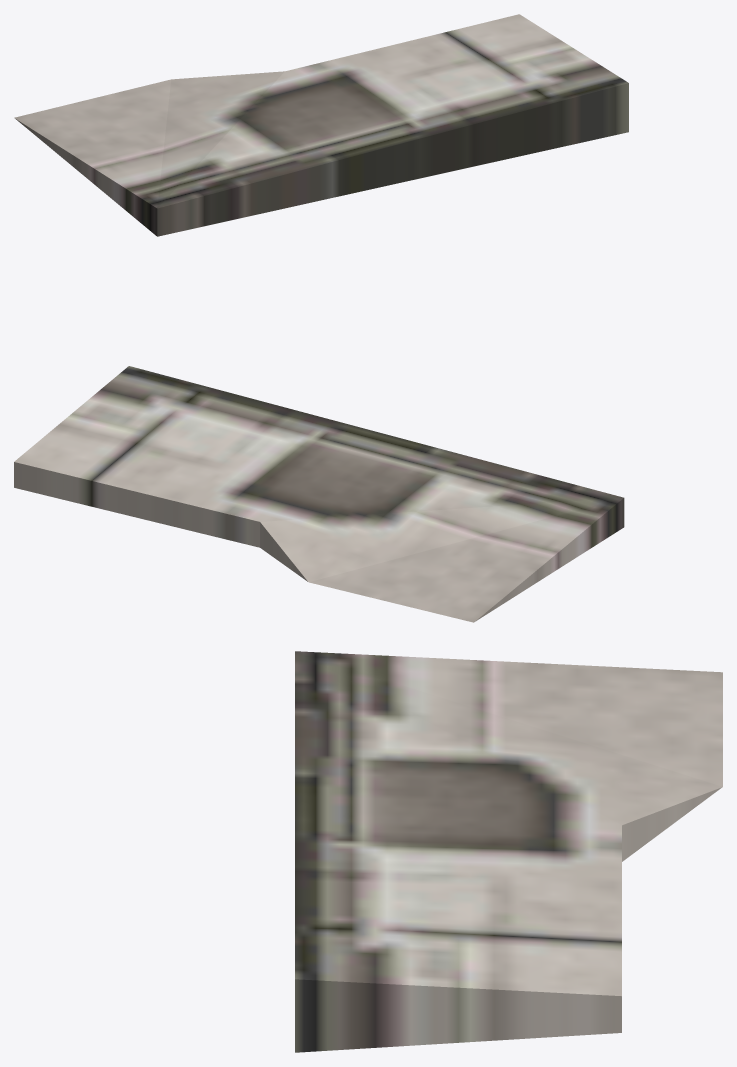
The model's file is Gate_02_Derelict_05.glb.
The picture shows the model from 3 angles, top to bottom: view 1: azimuth 30°, elevation 25°; view 2: azimuth 150°, elevation 25°; view 3: azimuth 270°, elevation 25°; orthographic projection. The views are drawn at different scales.
Visible parts, largest first — view 1: Gate_02_Derelict_05; view 2: Gate_02_Derelict_05; view 3: Gate_02_Derelict_05.
Part boxes in pixels (bbox=[...]): Gate_02_Derelict_05: bbox=[14, 14, 628, 236]; Gate_02_Derelict_05: bbox=[14, 366, 624, 622]; Gate_02_Derelict_05: bbox=[295, 651, 722, 1052].
Bounding box in the file's own units: 2.89 × 0.2886 × 2.52.
Materials: 2 (2 with a texture image).
